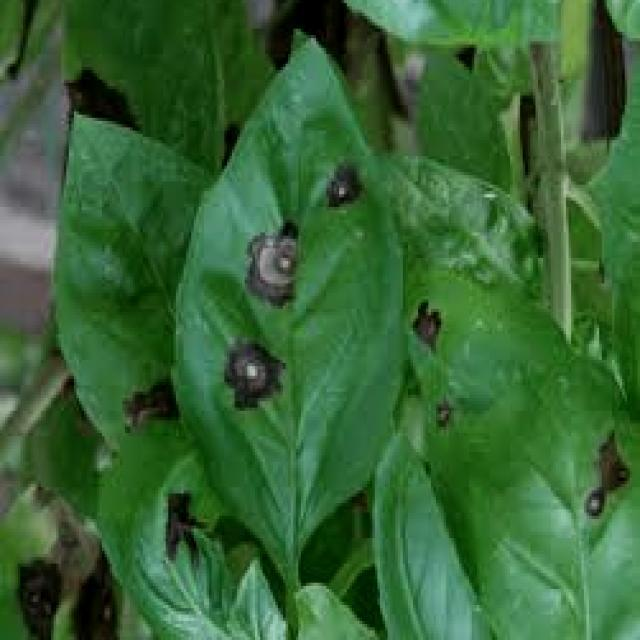Bercak Daun Serkospora: (167, 29, 410, 567)
